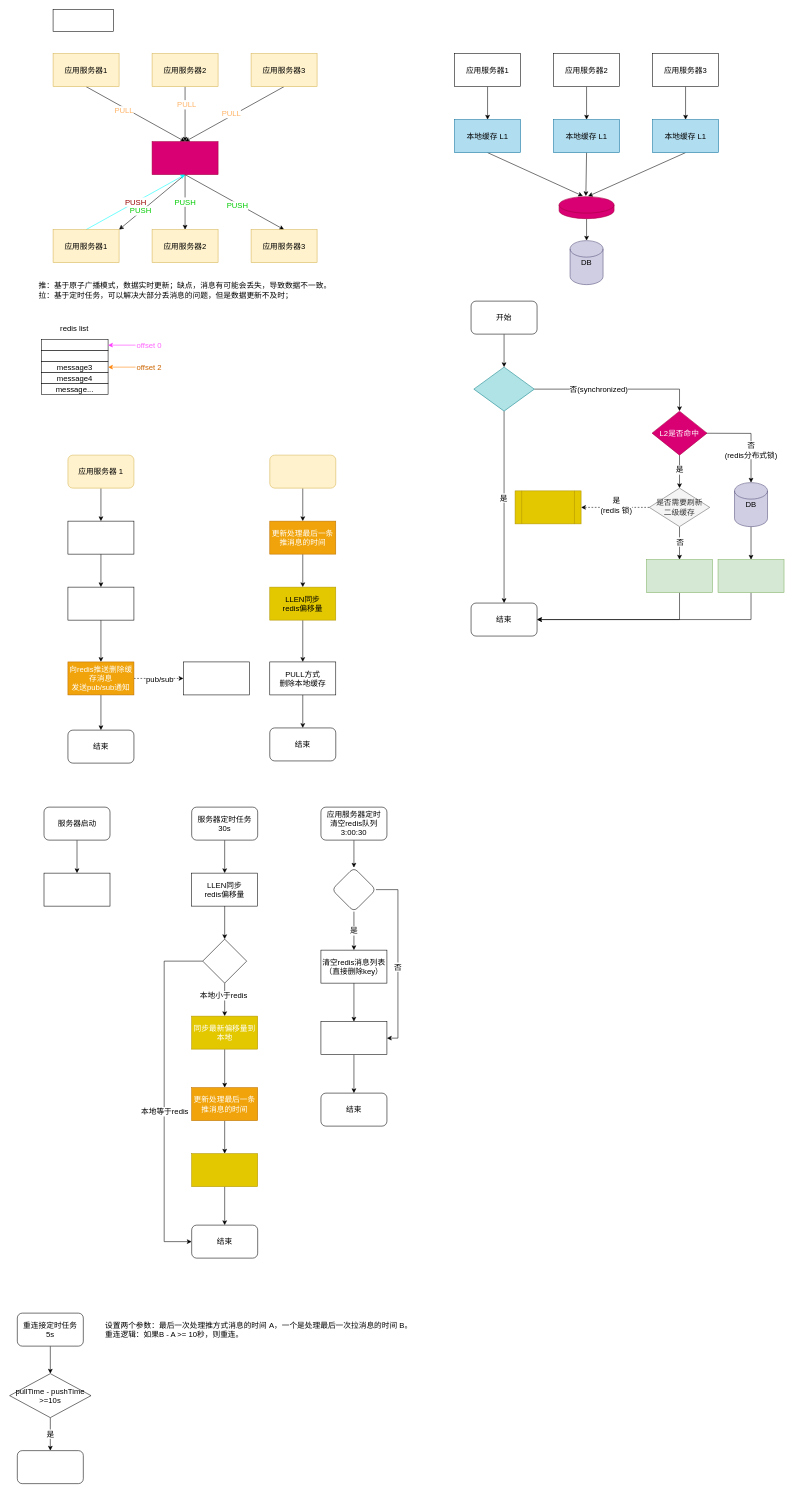
The diagram is 794 pixels wide and 1493 high, and some of its shapes have lost their labels. Each missing label, with the centre of its shape:
"L1是否命中" goes at pixel 503 389.
"LLEN获取偏移量 存本地" goes at pixel 76 889.
"LRANGE获取偏移量对应消息 删除缓存" goes at pixel 224 1170.
"message1" goes at pixel 74 345.
"message2" goes at pixel 74 356.
"pub/sub重连" goes at pixel 50 1467.
"redis L2" goes at pixel 586 207.
"redis服务器" goes at pixel 185 158.
"写入L1" goes at pixel 679 576.
"写入L1、L2" goes at pixel 750 576.
"删除redis缓存" goes at pixel 100 603.
"删除一级缓存" goes at pixel 216 678.
"可用性和成本" goes at pixel 83 20.
"应用服务器1、2...收到pub/sub通知" goes at pixel 302 471.
"异步刷新二级缓存" goes at pixel 548 507.
"是否获取到分布式锁" goes at pixel 353 889.
"更新DB" goes at pixel 100 537.
"本地消息列表置为-1" goes at pixel 353 1038.
"比较本地偏移量和redis偏移量大小" goes at pixel 224 961.
